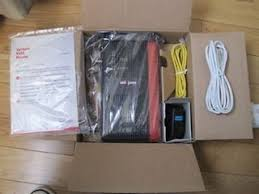Verizon Router: (96, 36, 165, 143)
